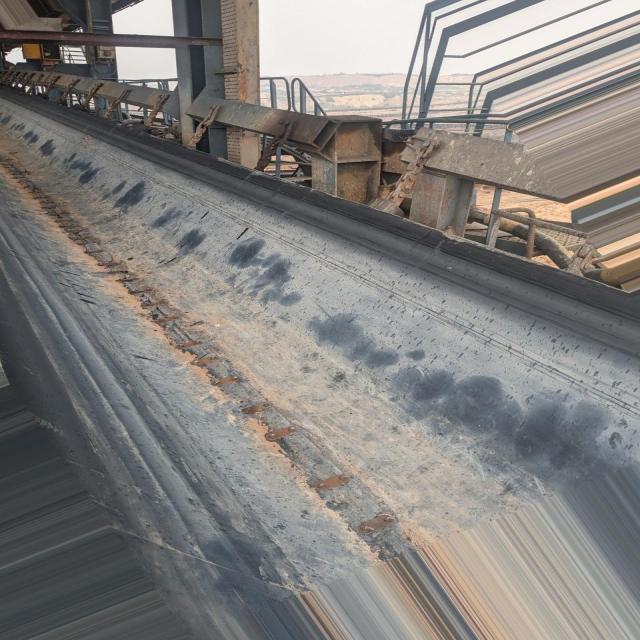patch work: (0, 142, 421, 564)
